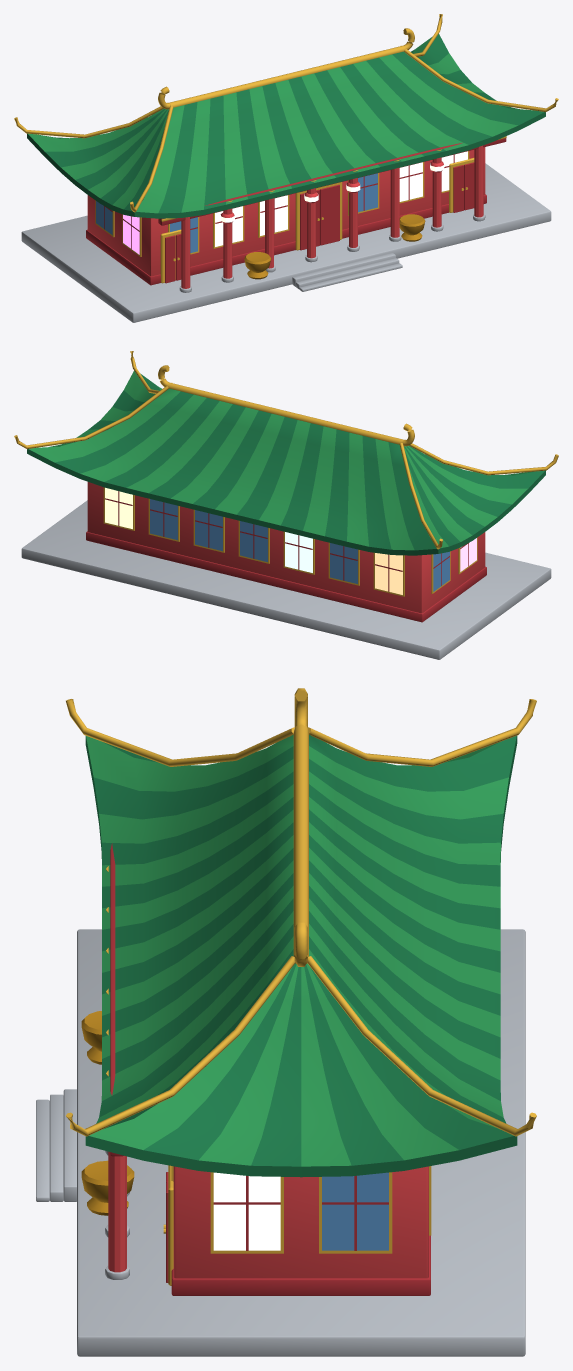
Rendered from templo_comprido_verde.glb.
3 views of the same model, one above another, from view 1: azimuth 30°, elevation 25°; view 2: azimuth 150°, elevation 25°; view 3: azimuth 270°, elevation 25° (orthographic). The views are drawn at different scales.
Visible parts, largest first — view 1: templo_comprido_verde; view 2: templo_comprido_verde; view 3: templo_comprido_verde.
Part boxes in pixels (box(x1,y1,x2,y2)): templo_comprido_verde: box(14, 14, 558, 322); templo_comprido_verde: box(14, 351, 558, 659); templo_comprido_verde: box(36, 688, 536, 1356).
Size of the model in its own units: 25.56 by 9.89 by 12.95.
8 materials, 2 textured.
